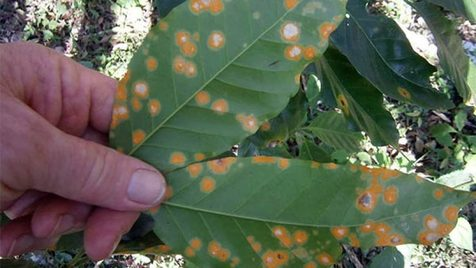roya: (104, 8, 353, 155), (187, 163, 465, 262)
